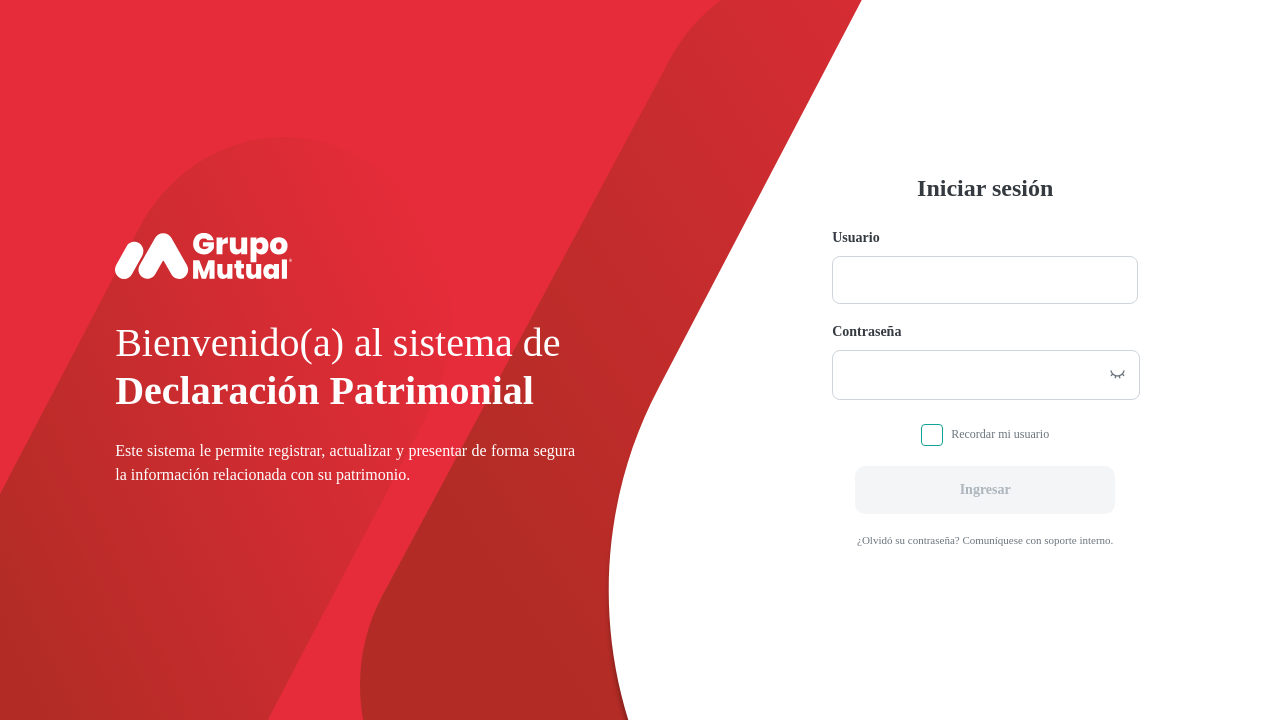
Scenario: Login › shows required errors after leaving empty fields
This screenshot has width=1280, height=720.
Click the field labelled "Usuario": {"x": 985, "y": 280} [832, 256, 1138, 304]
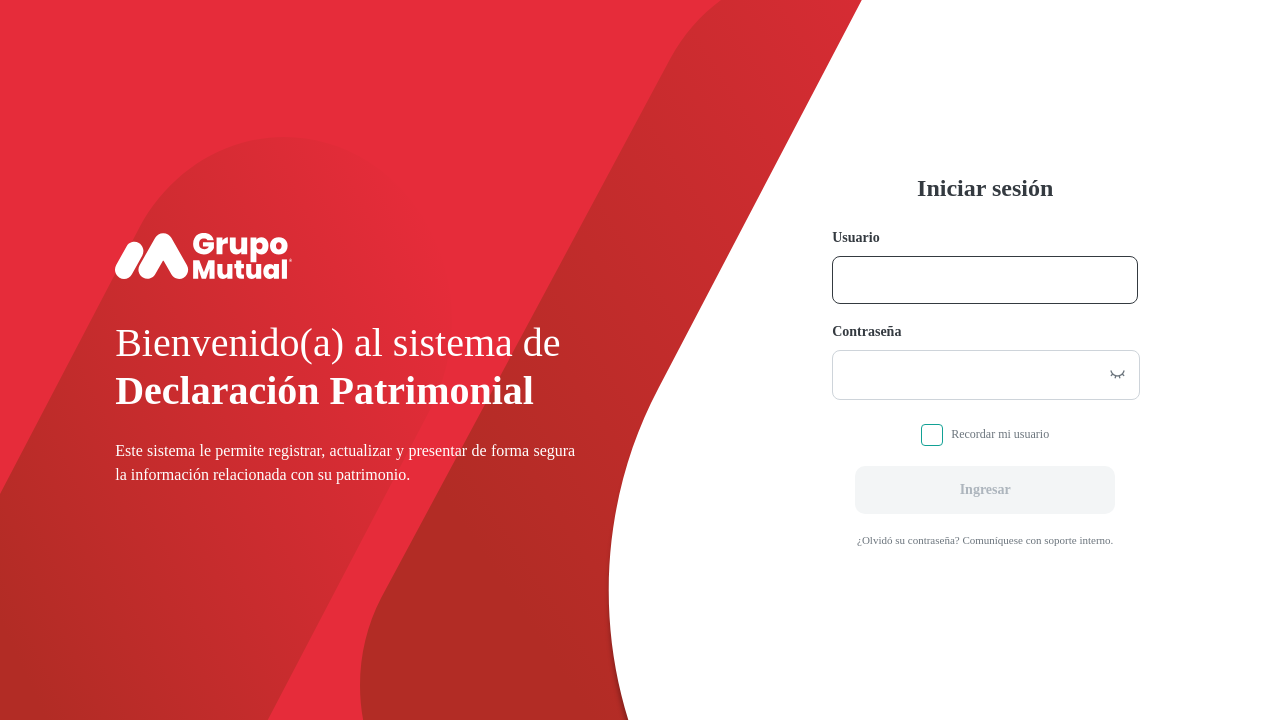
Press Tab
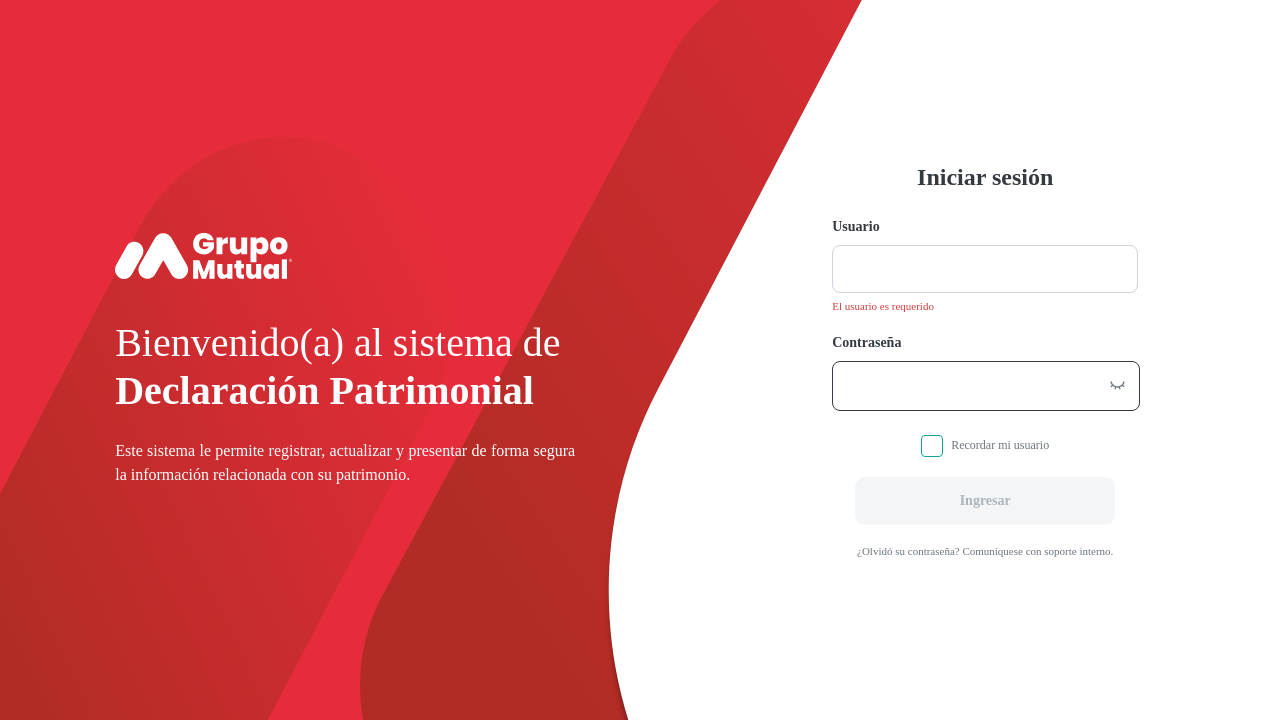
Press Tab
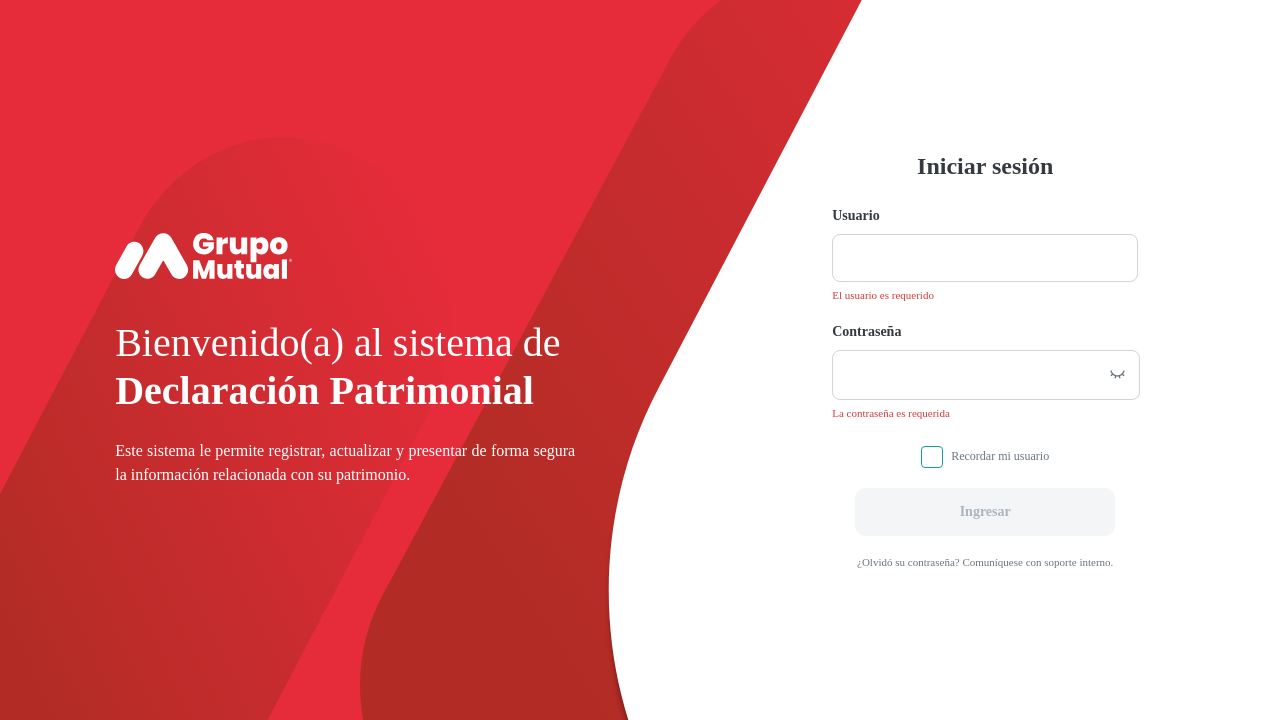
expect the text "El usuario es requerido" is shown: met, box [832, 286, 934, 304]
expect the text "La contraseña es requerida" is shown: met, box [832, 406, 950, 418]
